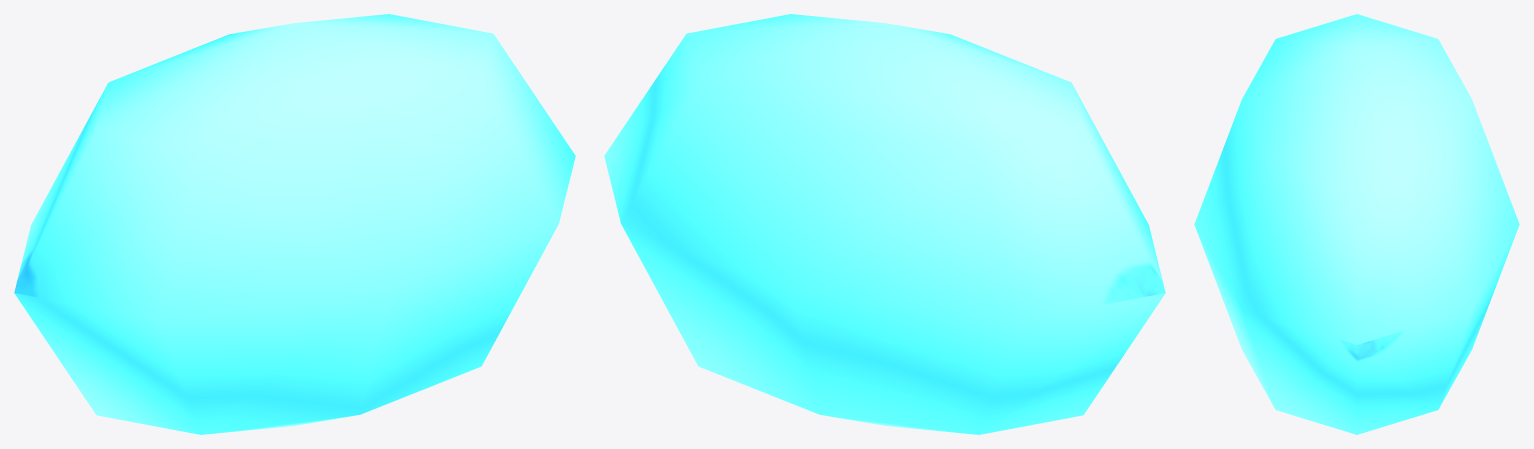
3 views of the same model, side by side, from view 1: azimuth 30°, elevation 25°; view 2: azimuth 150°, elevation 25°; view 3: azimuth 270°, elevation 25° (orthographic). The views are drawn at different scales.
Visible parts, largest first — view 1: Sphere172_Material_0_0; view 2: Sphere172_Material_0_0; view 3: Sphere172_Material_0_0.
Part boxes in pixels (x1,y1,x2,y2): Sphere172_Material_0_0: (14, 14, 575, 434); Sphere172_Material_0_0: (604, 14, 1165, 434); Sphere172_Material_0_0: (1194, 14, 1519, 434).
Size of the model in its own units: 0.0298 by 0.0204 by 0.017.
1 material, 1 textured.
